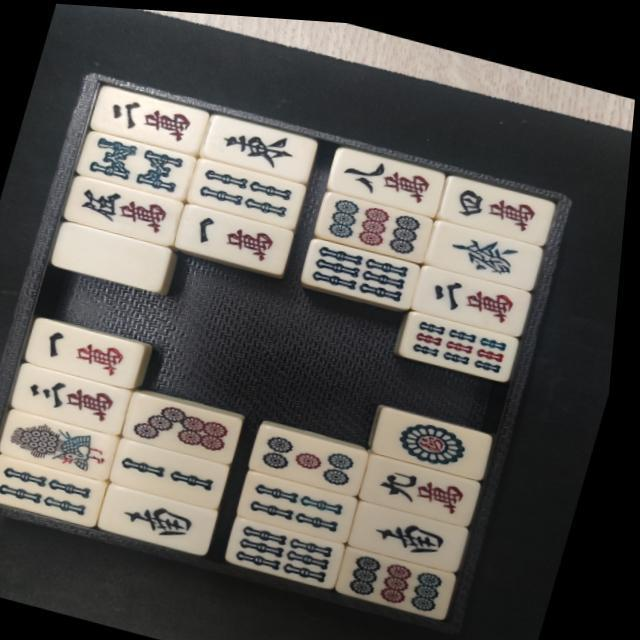hdg: (434, 216, 546, 279), (448, 174, 556, 233)
hdw: (61, 223, 171, 286)
hwe: (207, 111, 319, 176)
hws: (364, 500, 473, 561), (113, 486, 220, 548)
sb1: (10, 411, 126, 476)
sb2: (121, 438, 233, 502)
sb4: (194, 156, 304, 222), (0, 457, 110, 522), (250, 471, 360, 534)
sb6: (309, 233, 422, 300), (238, 515, 350, 580)
sb8: (82, 129, 194, 194)
sb9: (409, 306, 519, 371)
sc1: (36, 318, 148, 385), (184, 204, 294, 266)
sc2: (420, 261, 534, 326), (96, 88, 204, 148)
sc3: (21, 363, 133, 430)
sc5: (74, 177, 182, 240)
sc8: (334, 144, 445, 208)
sc9: (373, 452, 488, 516)
sd1: (383, 404, 499, 469)
sd5: (262, 426, 370, 486)
sd7: (134, 392, 244, 458)
sd9: (350, 543, 462, 610), (324, 188, 432, 252)
